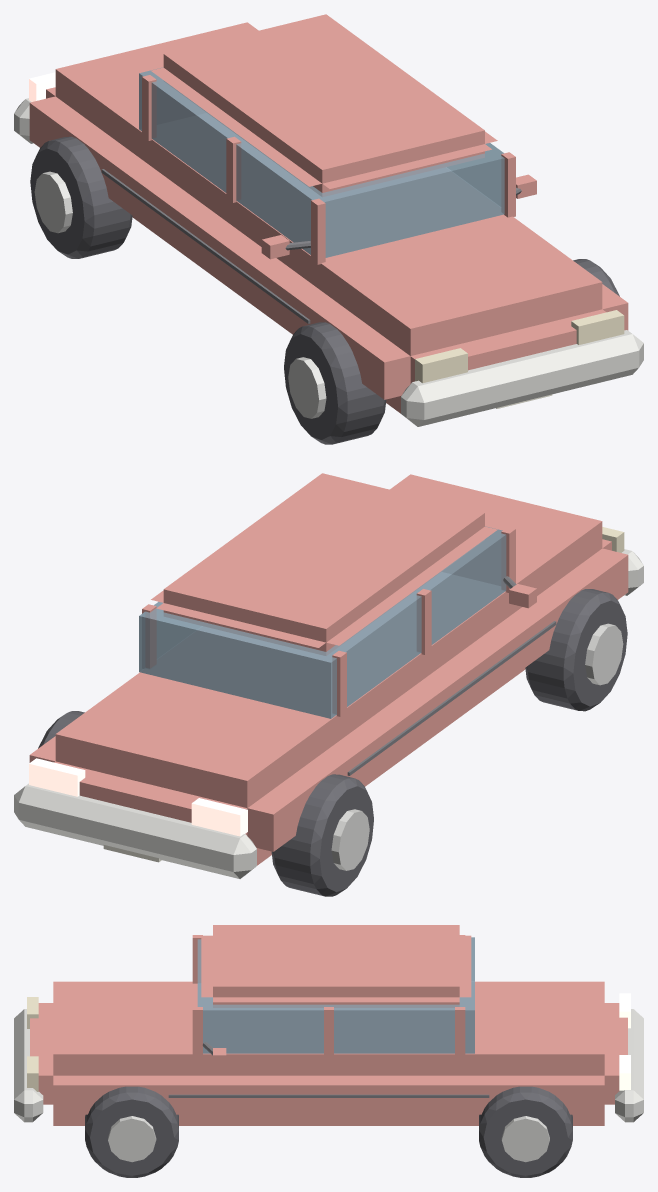
The model's file is Vehicle_Sedan_A.fbx.
The picture shows the model from 3 angles, top to bottom: view 1: azimuth 30°, elevation 25°; view 2: azimuth 150°, elevation 25°; view 3: azimuth 270°, elevation 25°; orthographic projection. The views are drawn at different scales.
Visible parts, largest first — view 1: Vehicle_Sedan_A; view 2: Vehicle_Sedan_A; view 3: Vehicle_Sedan_A.
Boxes of the visible parts, x1,y1,x2,y2 form: Vehicle_Sedan_A: [14, 14, 643, 444]; Vehicle_Sedan_A: [14, 473, 643, 896]; Vehicle_Sedan_A: [14, 925, 643, 1177].
Size of the model in its own units: 1.87 by 1.28 by 4.32.
